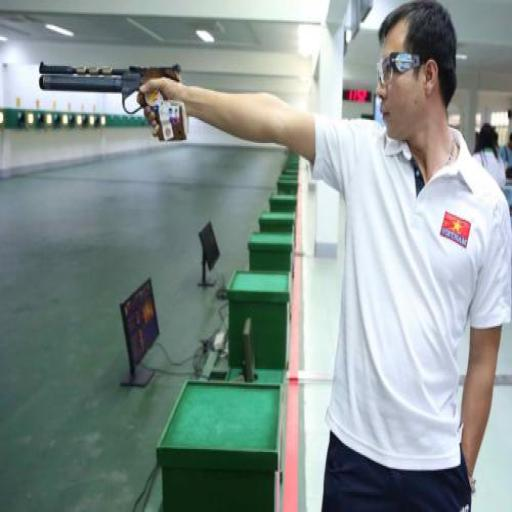shooting: (135, 2, 511, 510)
